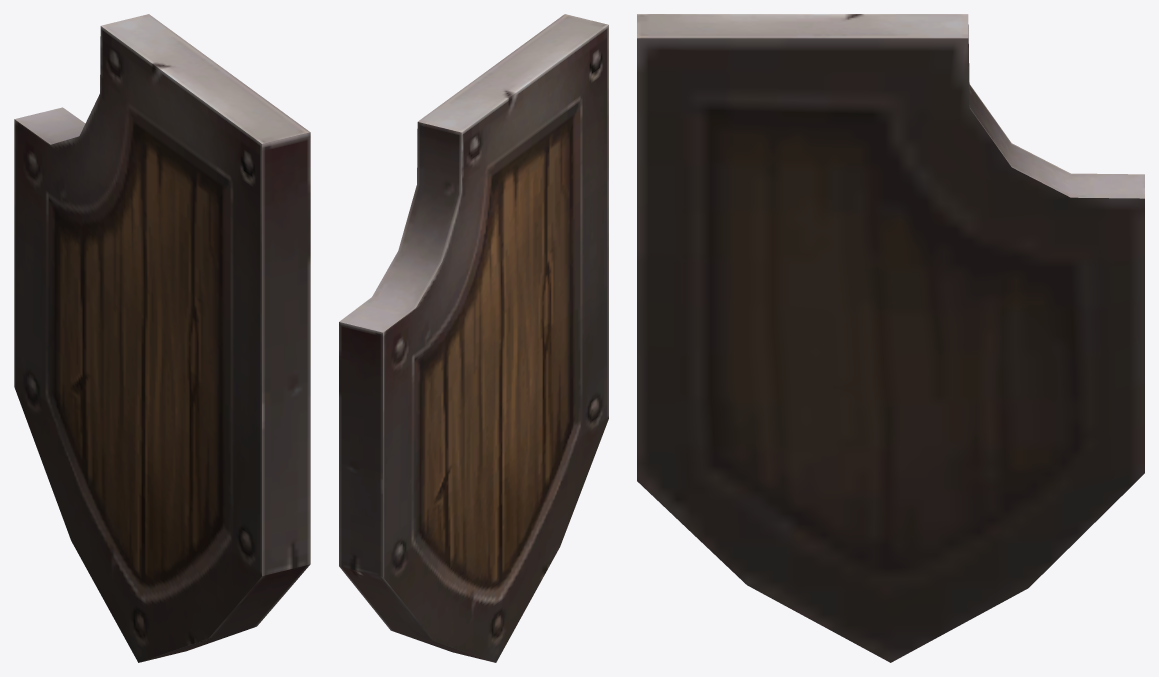
Rendered from shield09_66d0dada.glb.
3 renders of one model, left to right at view 1: azimuth 30°, elevation 25°; view 2: azimuth 150°, elevation 25°; view 3: azimuth 270°, elevation 25°, orthographic. The views are drawn at different scales.
Size of the model in its own units: 0.0749 by 0.9013 by 0.664.
1 material, 1 textured.
